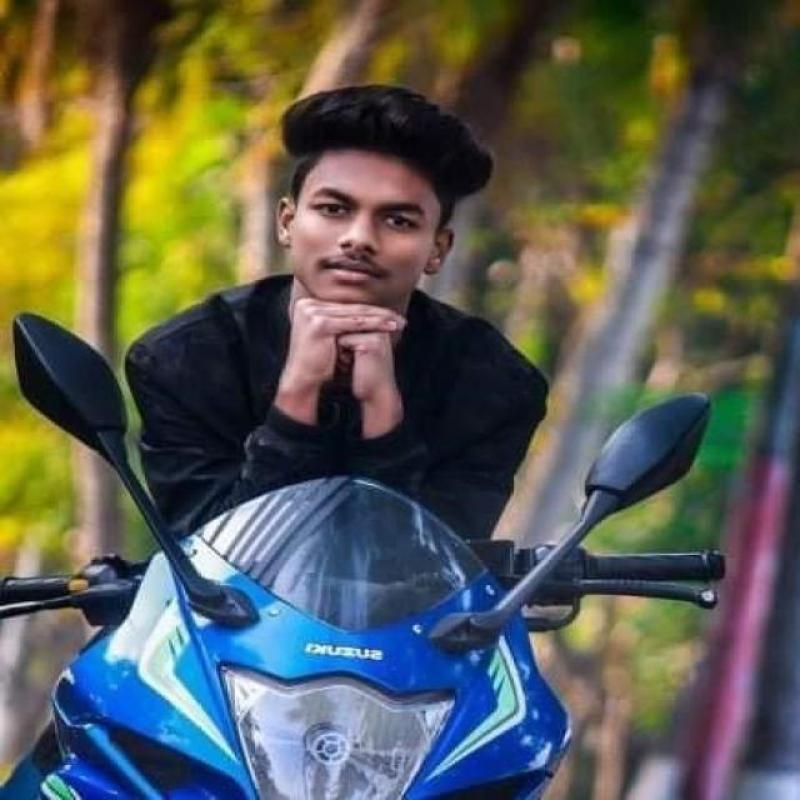nohelmet: (258, 74, 501, 316)
